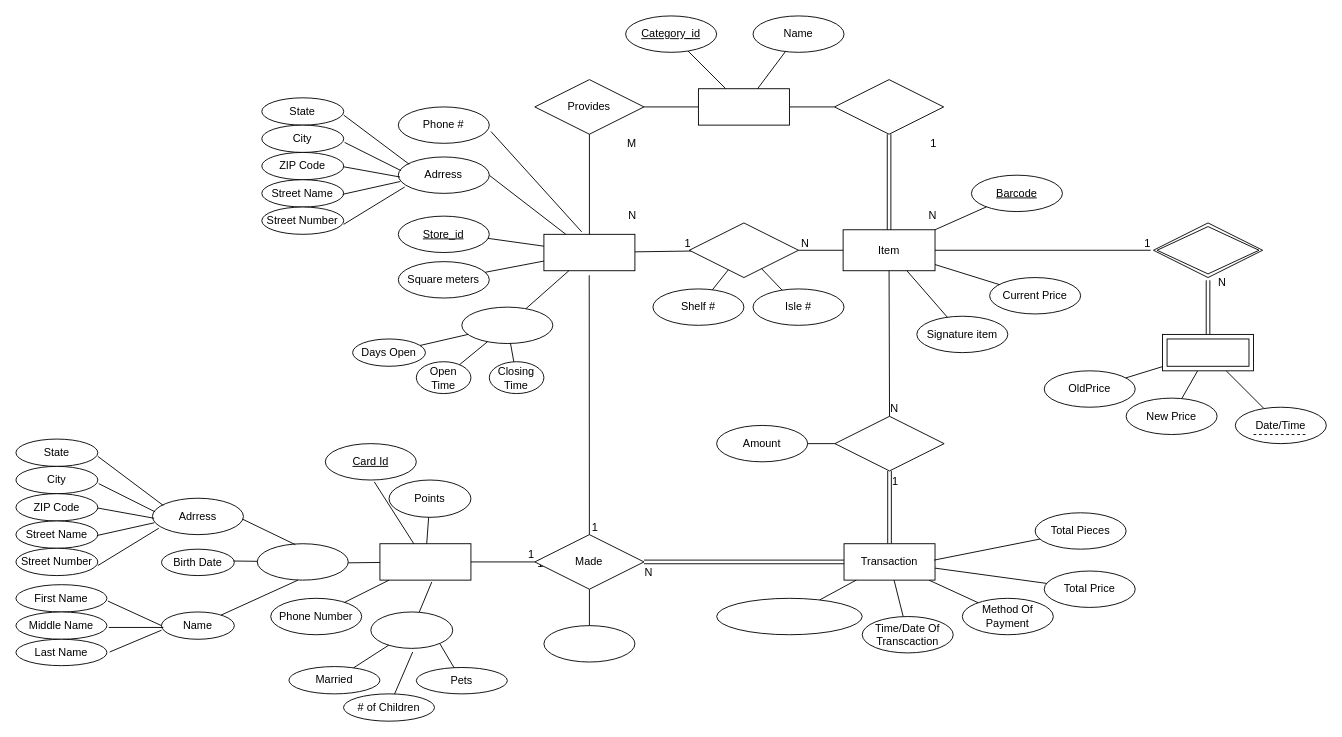
The diagram is 1342 pixels wide and 737 high, and some of its shapes have lost their labels. The shapes that lost their labels are listed below. From the top down, each one's centre as x and y in pixels, then its label:
At (x=743, y=106): "Category".
At (x=889, y=106): "Belongs".
At (x=589, y=252): "SuperMarket".
At (x=743, y=250): "Carries".
At (x=1208, y=250): "Had".
At (x=507, y=325): "Schedule".
At (x=1208, y=352): "Price Change".
At (x=889, y=443): "Bought".
At (x=302, y=561): "Personal Data".
At (x=425, y=561): "Customer".
At (x=411, y=629): "Family Data".
At (x=789, y=616): "Transcaction_Id".
At (x=589, y=643): "Total Cost".
